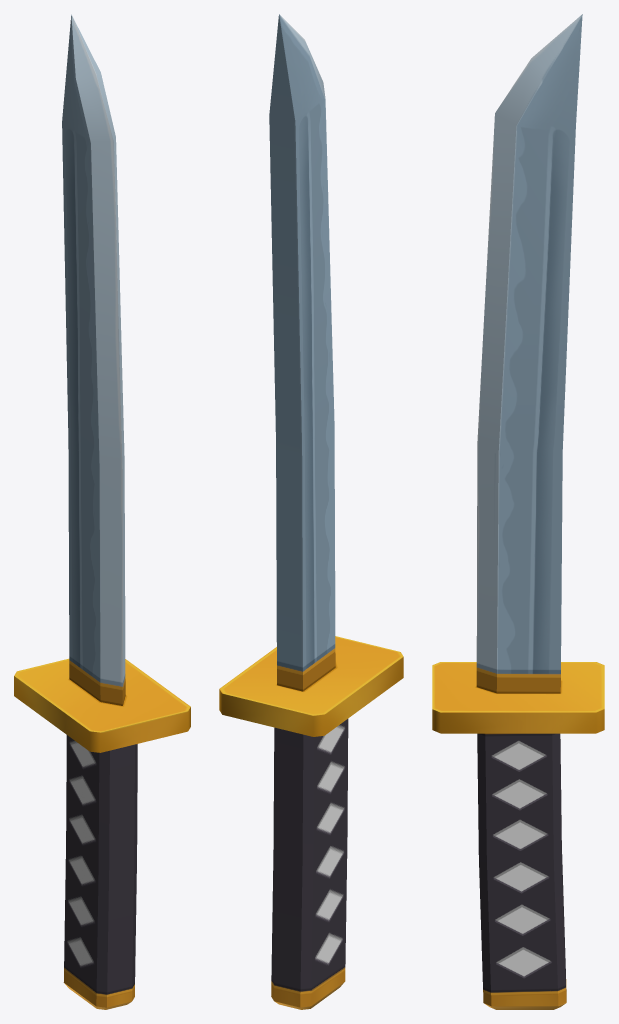
The model's file is Katana.fbx.
3 views of the same model, side by side, from view 1: azimuth 30°, elevation 25°; view 2: azimuth 150°, elevation 25°; view 3: azimuth 270°, elevation 25° (orthographic). The views are drawn at different scales.
Visible parts, largest first — view 1: KatanaModel.001; view 2: KatanaModel.001; view 3: KatanaModel.001.
Boxes of the visible parts, <box> form: KatanaModel.001: <box>14,14,190,1009</box>; KatanaModel.001: <box>219,14,403,1009</box>; KatanaModel.001: <box>432,14,604,1009</box>.
Size of the model in its own units: 23.9 by 217 by 34.3.
